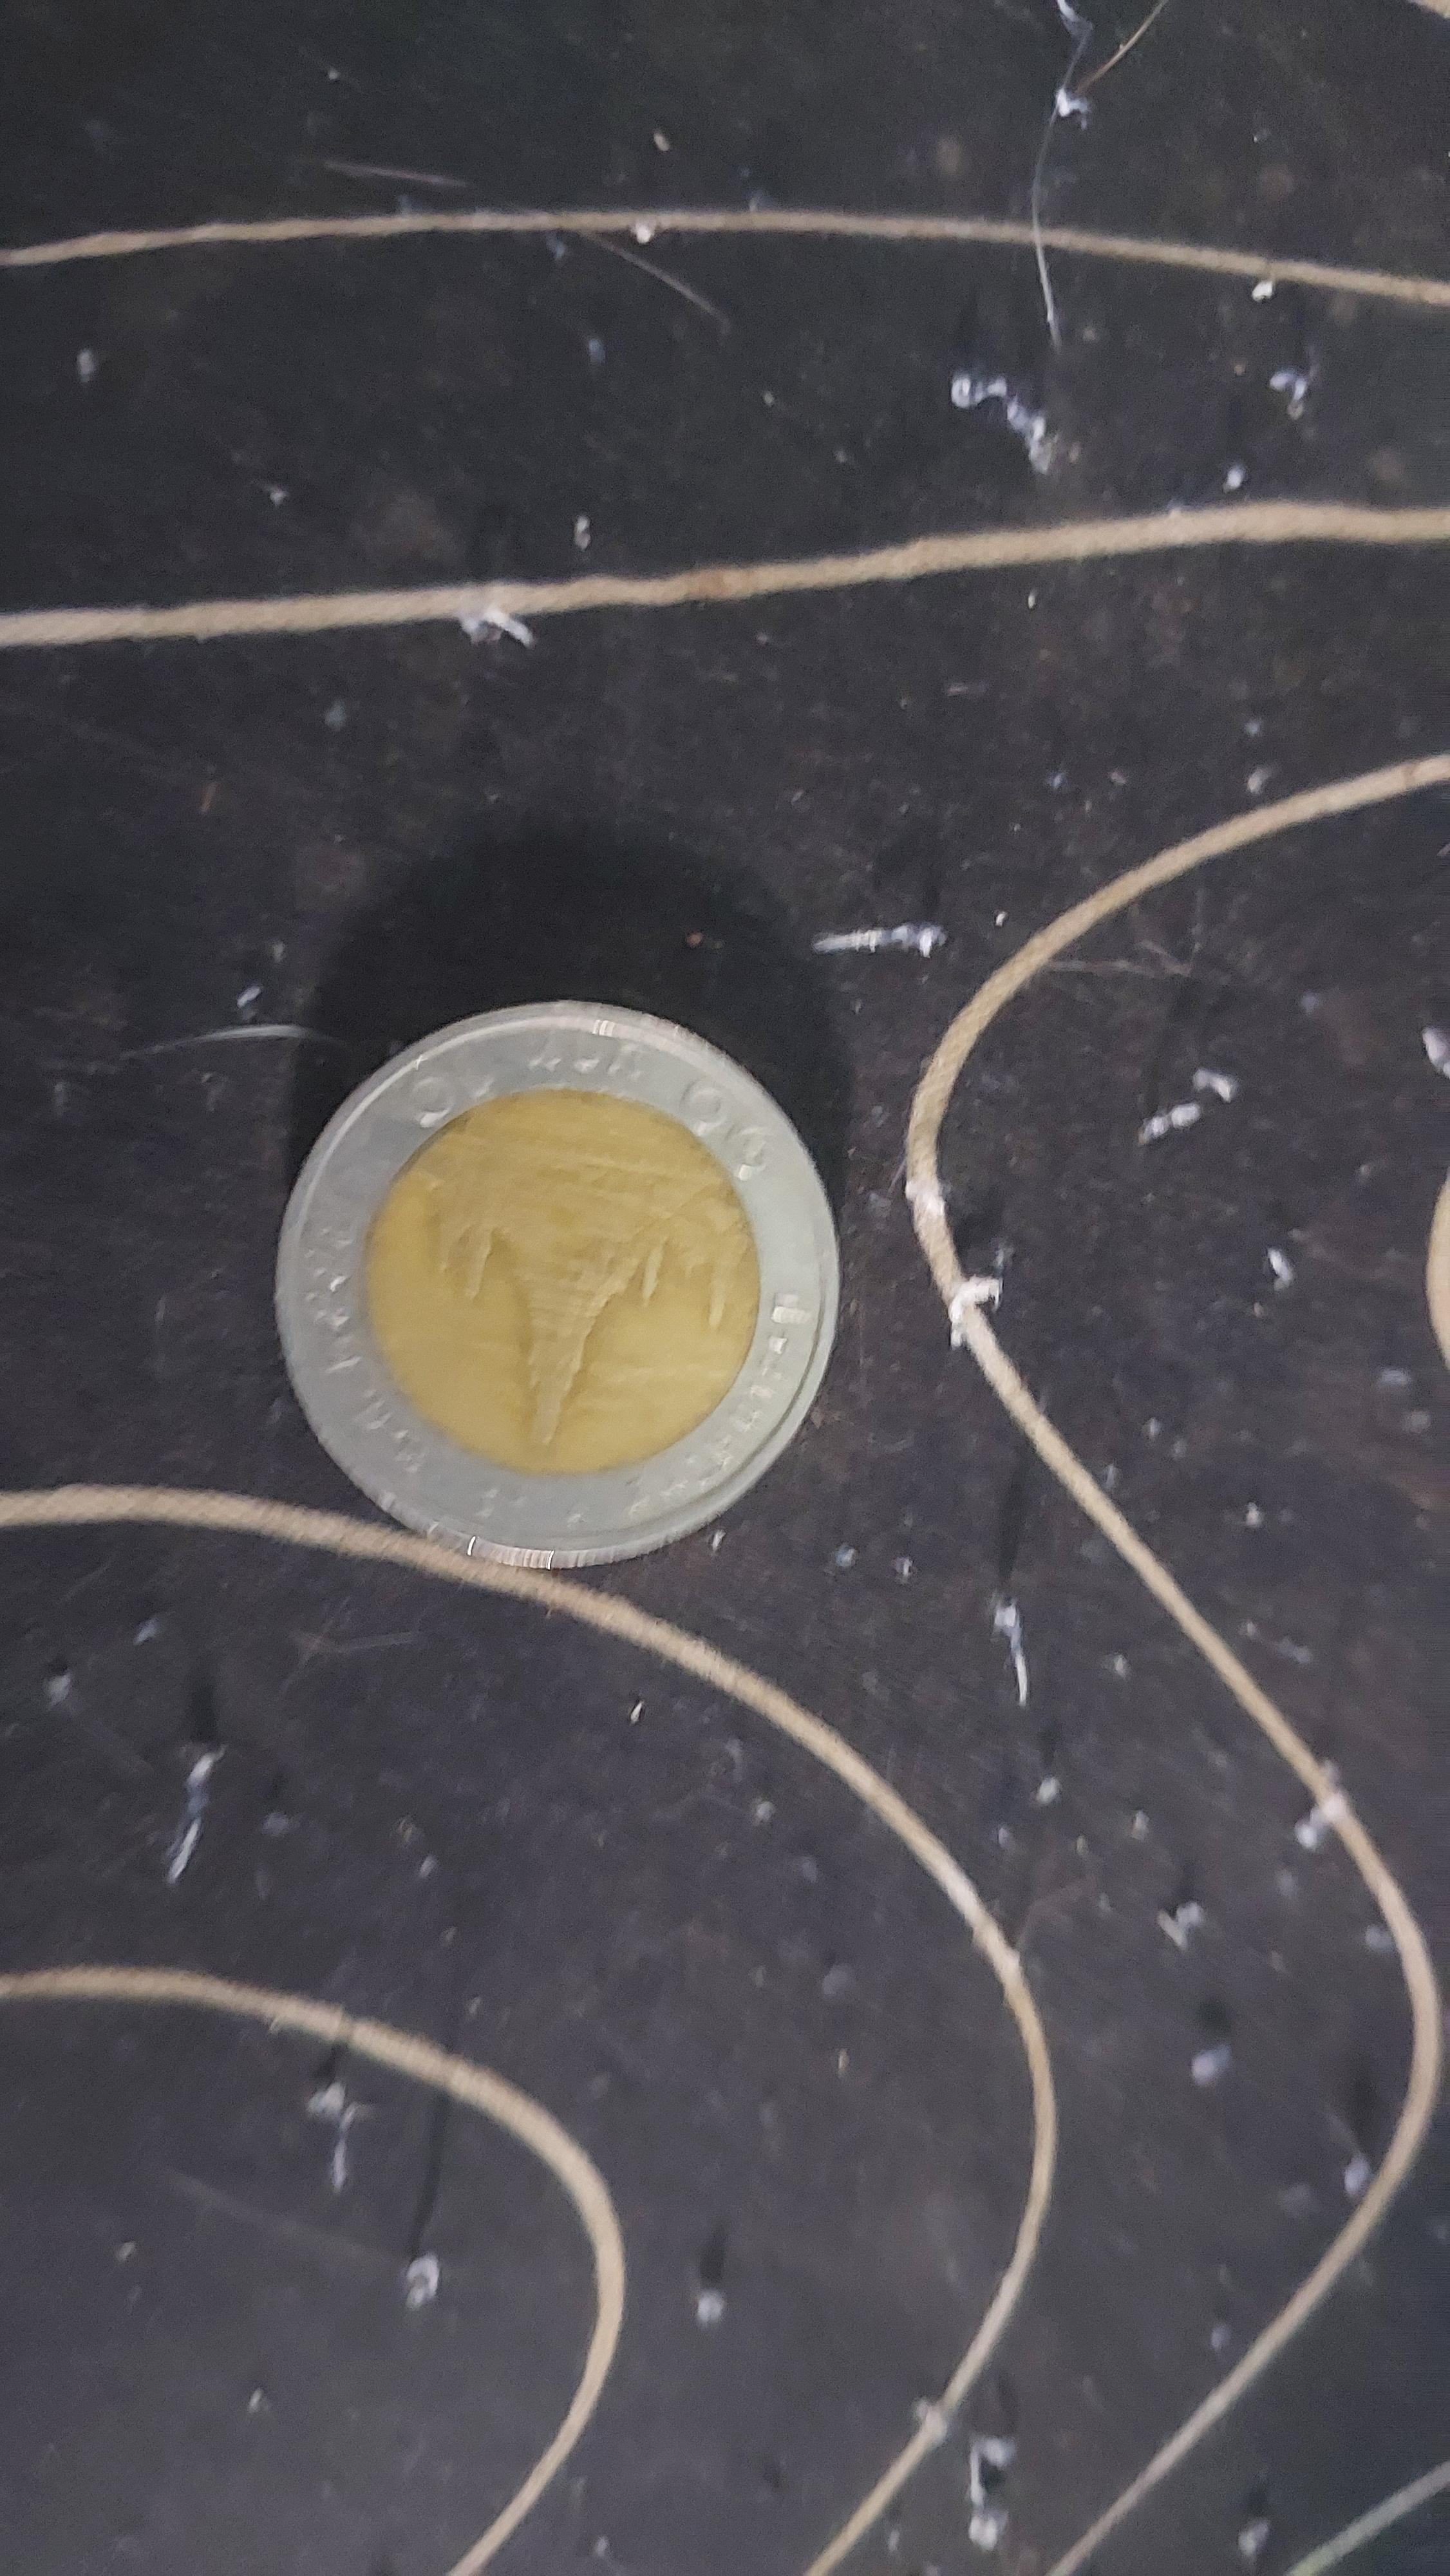10baht: (242, 943, 882, 1626)
